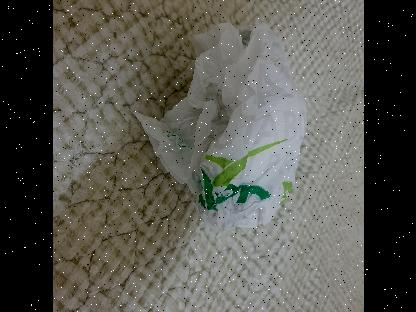Others: (127, 17, 315, 236)
